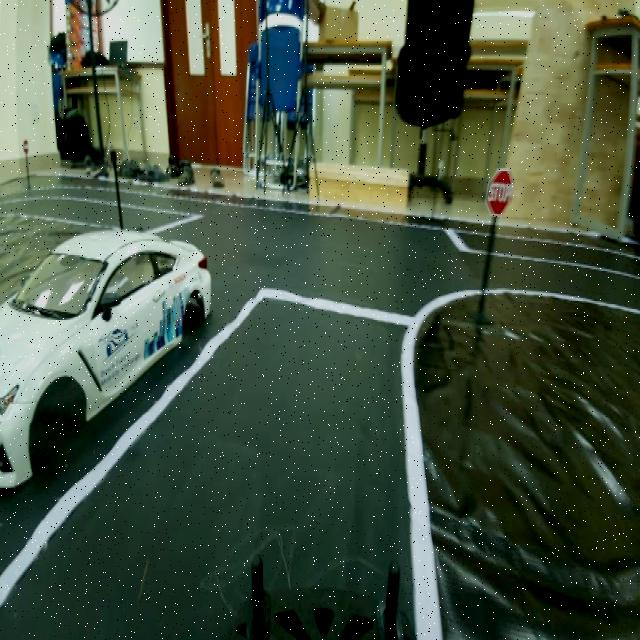car: (0, 167, 212, 467)
stop: (482, 164, 522, 227)
